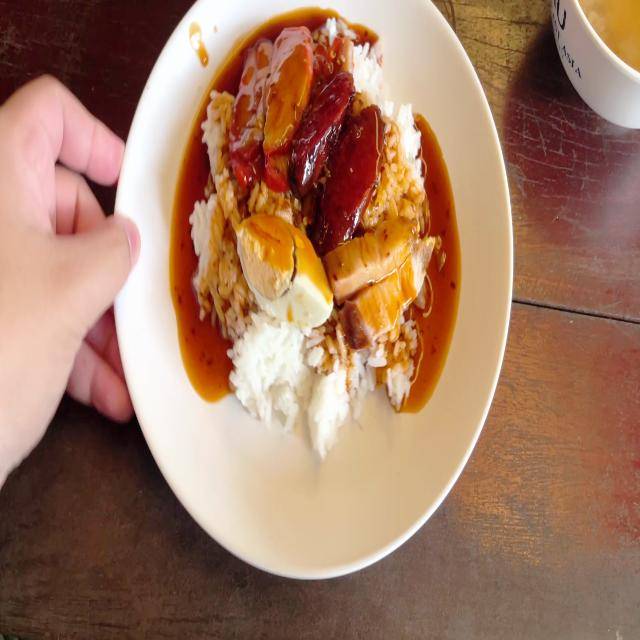boiled_egg: (239, 219, 330, 320)
chainese_sausage: (310, 65, 375, 235)
crispy_pork: (331, 222, 438, 344)
red_pork: (236, 31, 301, 170)
red_pork_and_crispy_pork: (193, 32, 420, 453)
rice: (233, 305, 295, 421), (307, 334, 363, 434), (192, 207, 234, 313)
